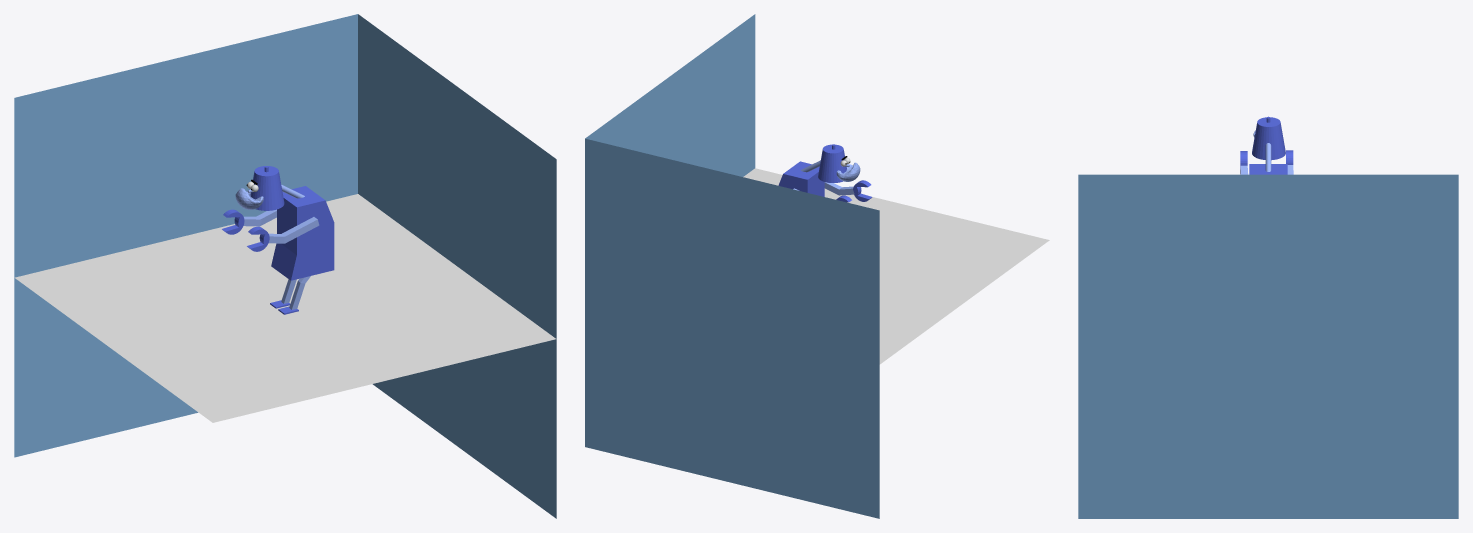
Rendered from Robo hiro.glb.
3 renders of one model, left to right at view 1: azimuth 30°, elevation 25°; view 2: azimuth 150°, elevation 25°; view 3: azimuth 270°, elevation 25°, orthographic. The views are drawn at different scales.
Parts seen in each view (by area): view 1: Plane.001, Plane, Plane.002, Cube, Cylinder.001; view 2: Plane.001, Plane, Plane.002, Cube, Cylinder.001; view 3: Plane.002, Cylinder.001.
Boxes of the visible parts, left/top/right/bottom form: Plane.001: left=14, top=14, right=357, bottom=457; Plane: left=15, top=194, right=555, bottom=422; Plane.002: left=358, top=14, right=556, bottom=518; Cube: left=271, top=186, right=334, bottom=280; Cylinder.001: left=250, top=166, right=284, bottom=210; Plane.001: left=585, top=138, right=879, bottom=518; Plane: left=743, top=168, right=1049, bottom=364; Plane.002: left=585, top=14, right=755, bottom=176; Cube: left=778, top=161, right=824, bottom=196; Cylinder.001: left=818, top=144, right=846, bottom=182; Plane.002: left=1078, top=174, right=1458, bottom=518; Cylinder.001: left=1252, top=117, right=1285, bottom=160.
Bounding box in the file's own units: 20 × 20 × 20.
